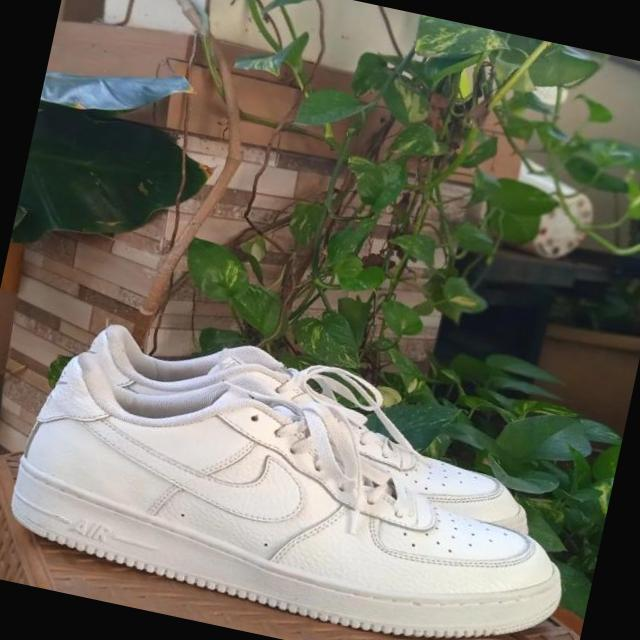nike_fake_airforce: (0, 333, 596, 640), (62, 313, 551, 532)
